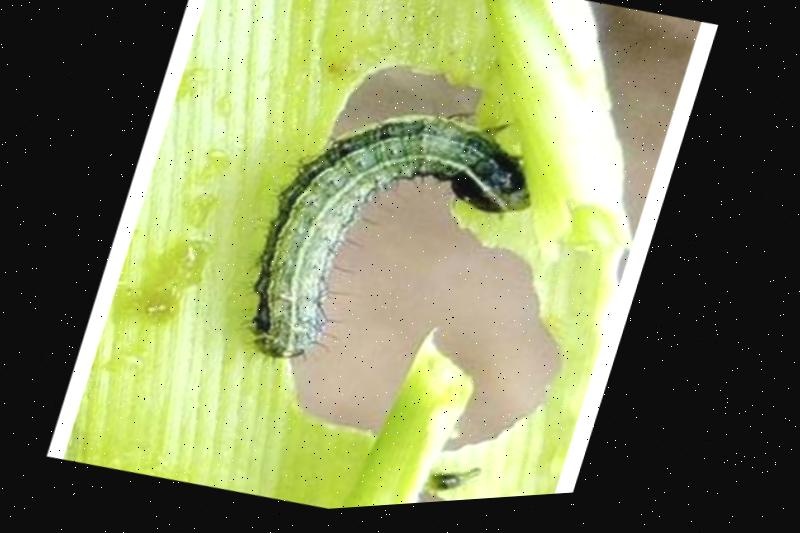fall-armyworm: (253, 118, 536, 363)
